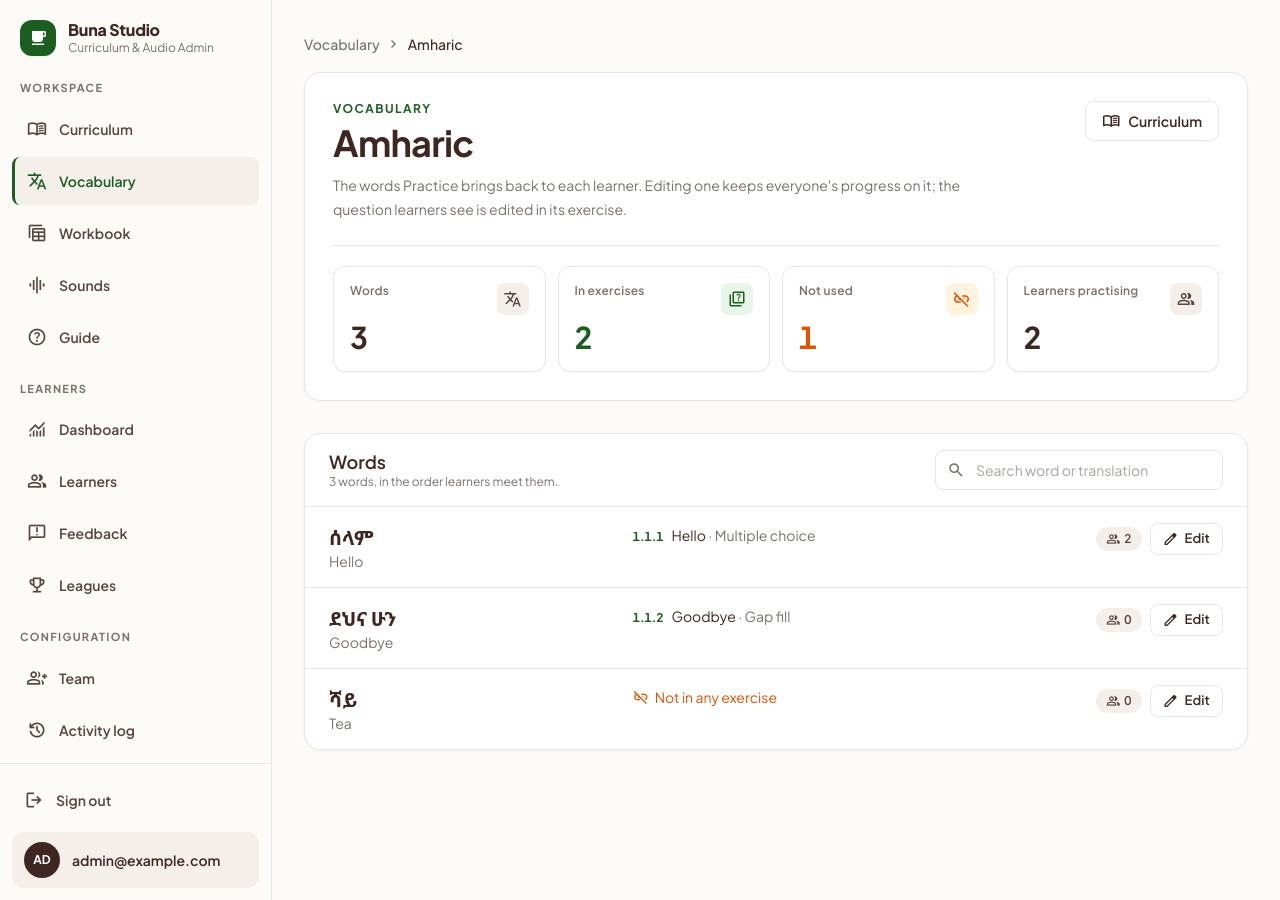
Test: the vocabulary page › shows a refused field under that field and keeps the form open
Expected: the heading "Amharic" is shown, [333,120,474,165]
Click the button with aria-label "Edit ሰላም".
click(1186, 539)  # box [1150,523,1223,555]
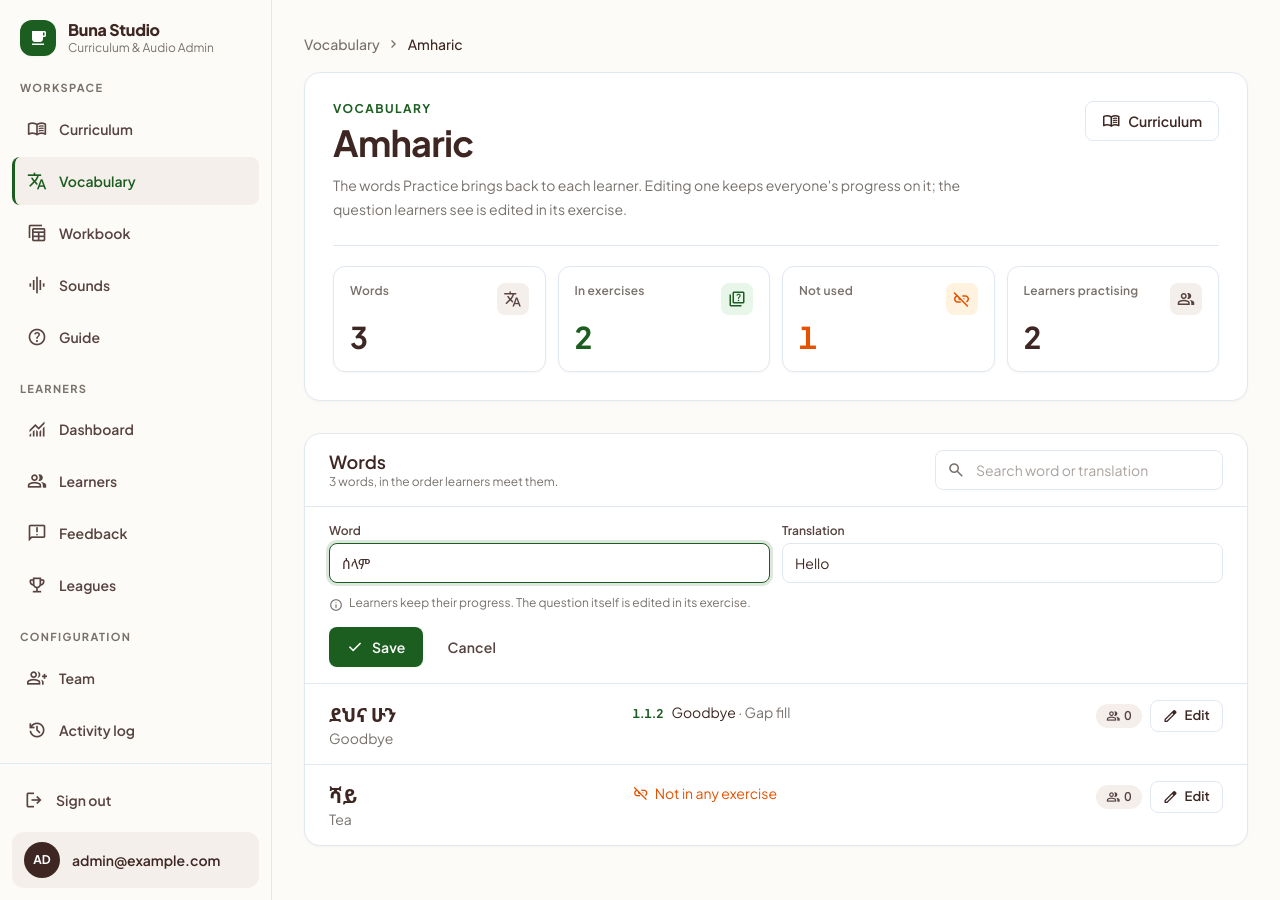
Type "!" into the field labelled "Translation".
click(1002, 563); type("!")  # box [782,543,1223,583]
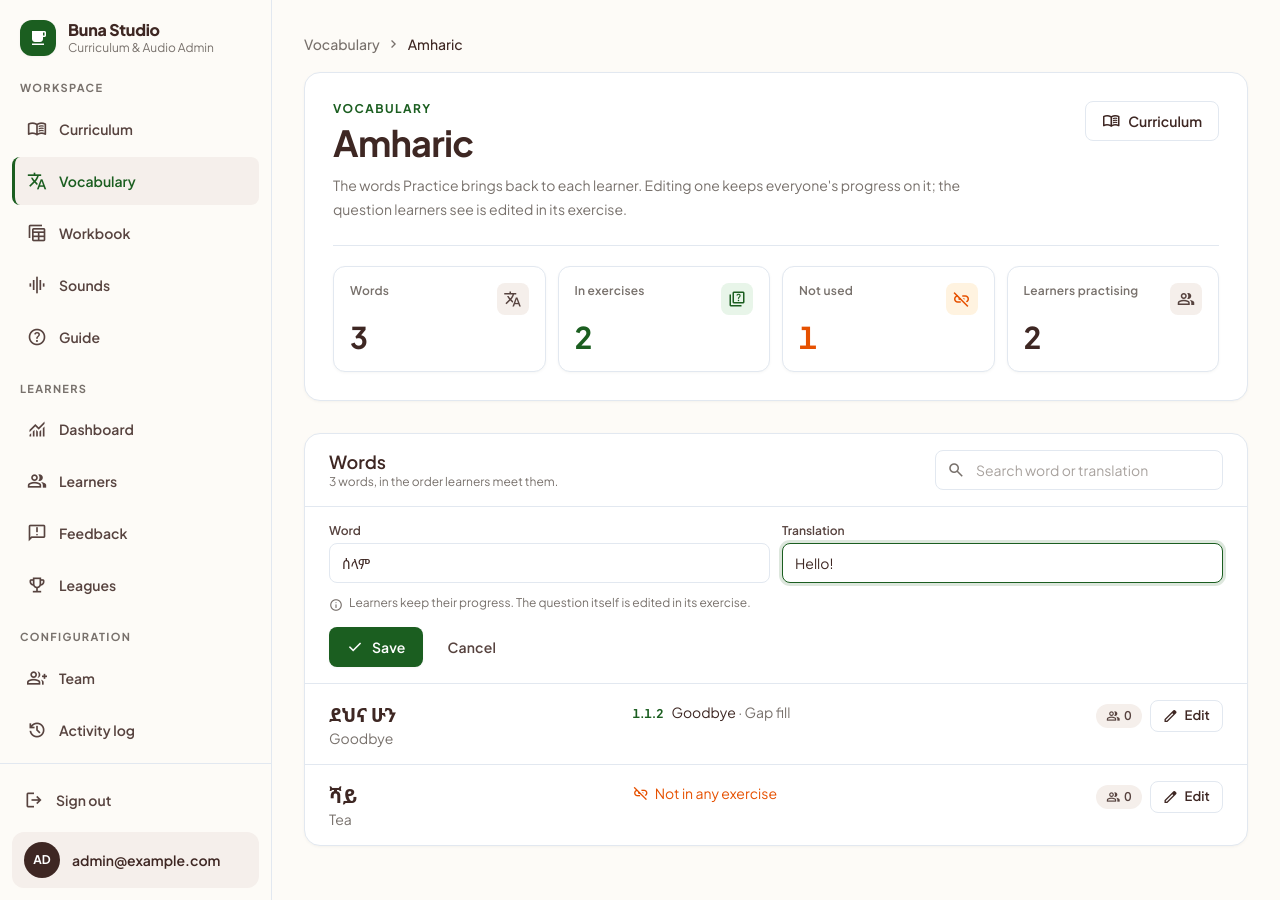
Click the button "Save".
click(376, 647)  # box [329,627,423,667]
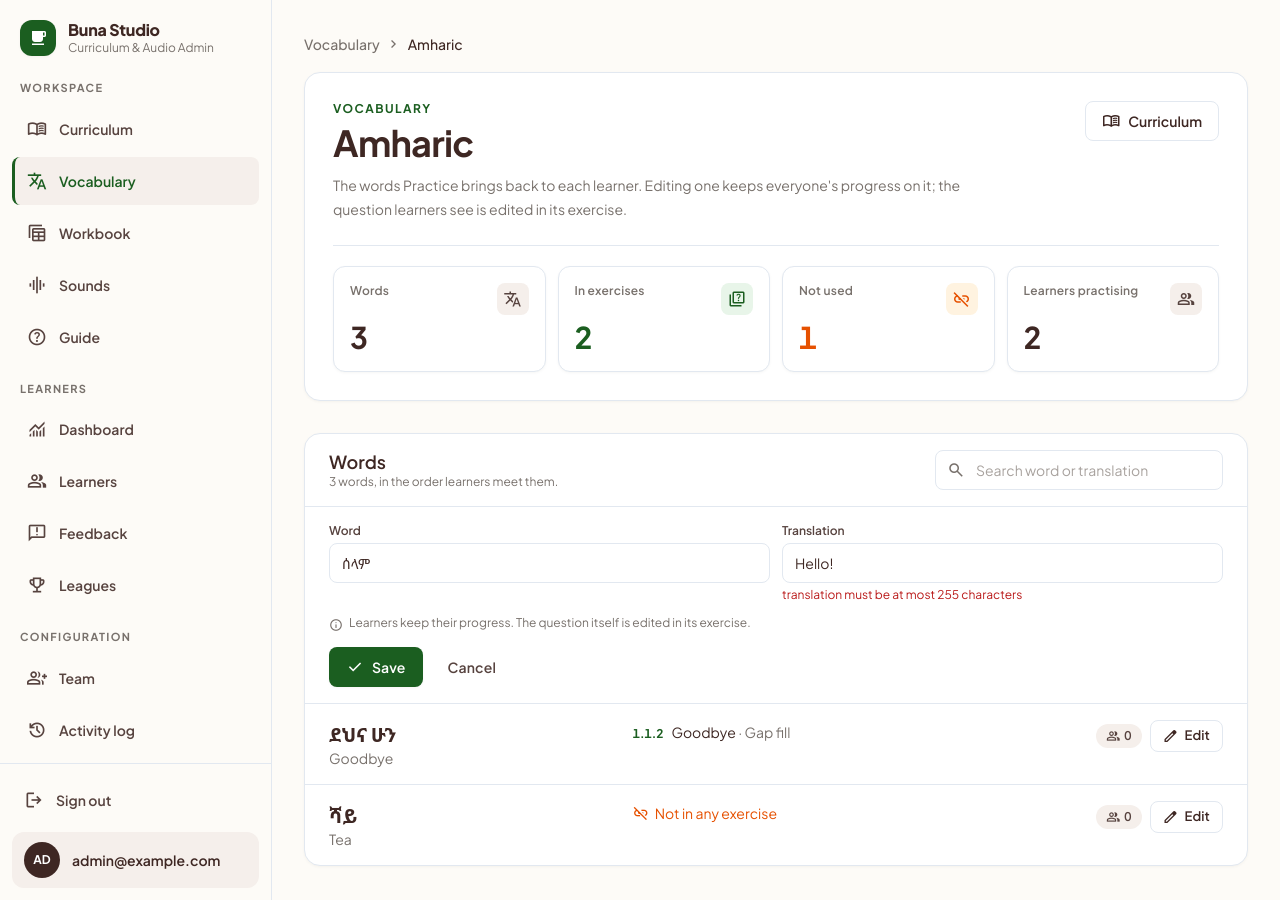
Now the form named "Edit ሰላም" is shown, box [329,523,1223,687]
Now the message reads "translation must be at most 255 characters", box [782,587,1022,602]
